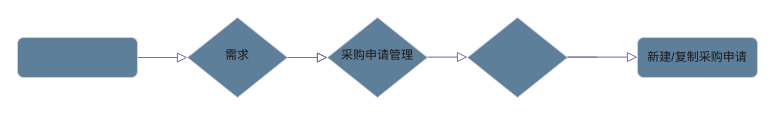
Some shapes in this 775 by 115 pixel diagram are drawn without their labels. Here are the shapes that lost their labels. From the top down, the centre of each, then its label:
At point 77,57: "采购申请开始".
At point 517,57: "采购申请创建".
